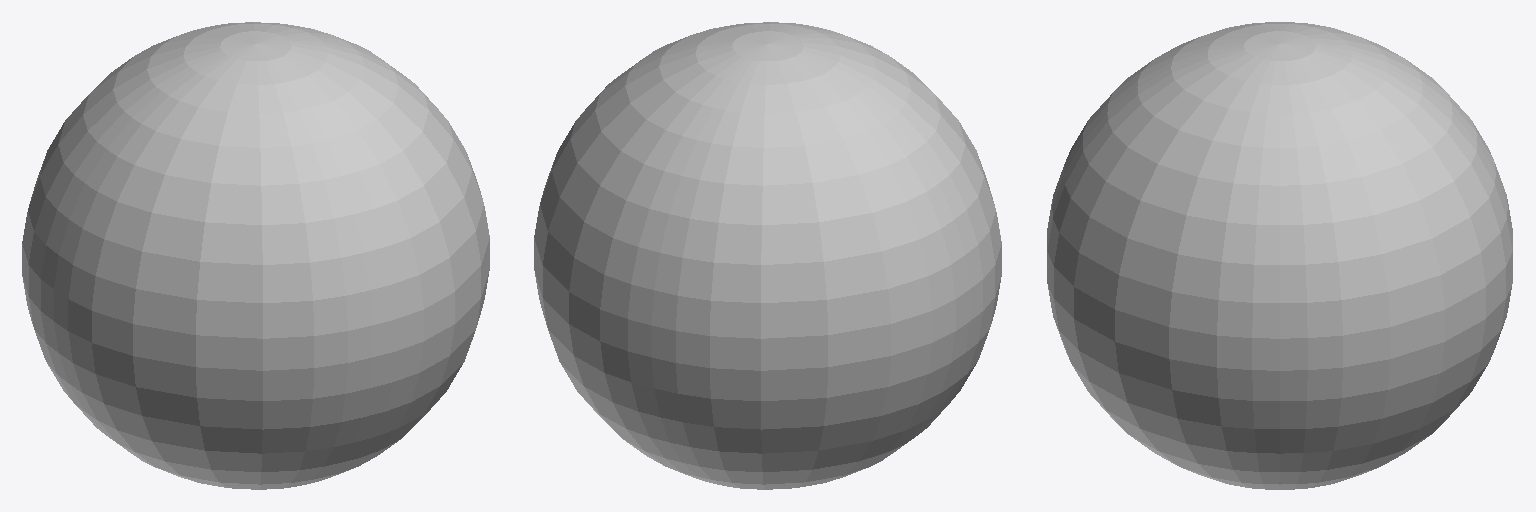
3 views of the same model, side by side, from view 1: azimuth 30°, elevation 25°; view 2: azimuth 150°, elevation 25°; view 3: azimuth 270°, elevation 25° (orthographic).
Visible parts, largest first — view 1: SurfSphere_SurfSphere.001; view 2: SurfSphere_SurfSphere.001; view 3: SurfSphere_SurfSphere.001.
Boxes of the visible parts, box(x1,y1,x2,y2) form: SurfSphere_SurfSphere.001: box(22, 22, 489, 489); SurfSphere_SurfSphere.001: box(534, 22, 1001, 489); SurfSphere_SurfSphere.001: box(1047, 22, 1512, 489).
Bounding box in the file's own units: 1.99 × 2 × 1.99.